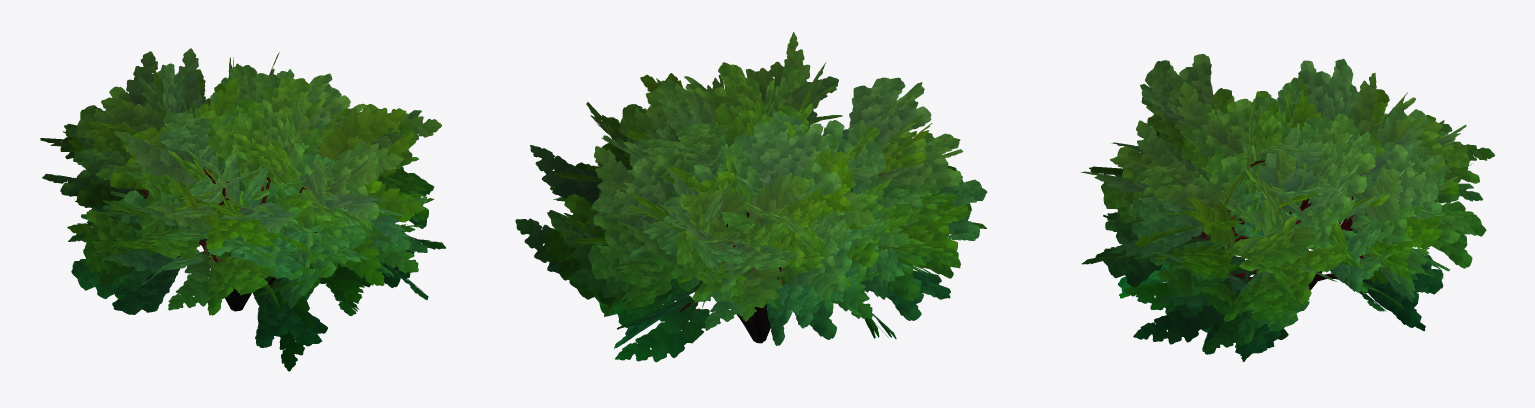
Rendered from SM_Bush_LOD1.gltf.
3 renders of one model, left to right at view 1: azimuth 30°, elevation 25°; view 2: azimuth 150°, elevation 25°; view 3: azimuth 270°, elevation 25°, orthographic. The views are drawn at different scales.
Parts seen in each view (by area): view 1: SM_Bush_LOD1; view 2: SM_Bush_LOD1; view 3: SM_Bush_LOD1.
Part boxes in pixels (<box>): SM_Bush_LOD1: <box>40,48,445,371</box>; SM_Bush_LOD1: <box>515,32,987,362</box>; SM_Bush_LOD1: <box>1081,54,1494,361</box>.
Bounding box in the file's own units: 2.53 × 1.65 × 2.44.
Materials: 2 (2 with a texture image).
